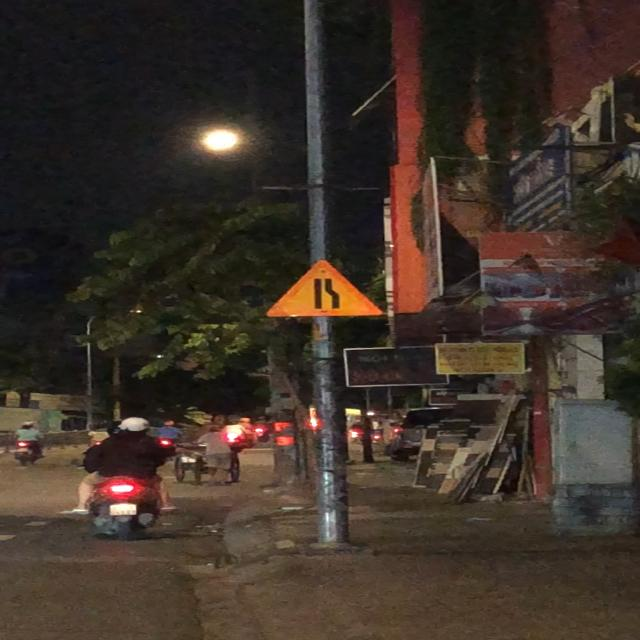Bien bao duong bi thu hep: (266, 261, 386, 318)
